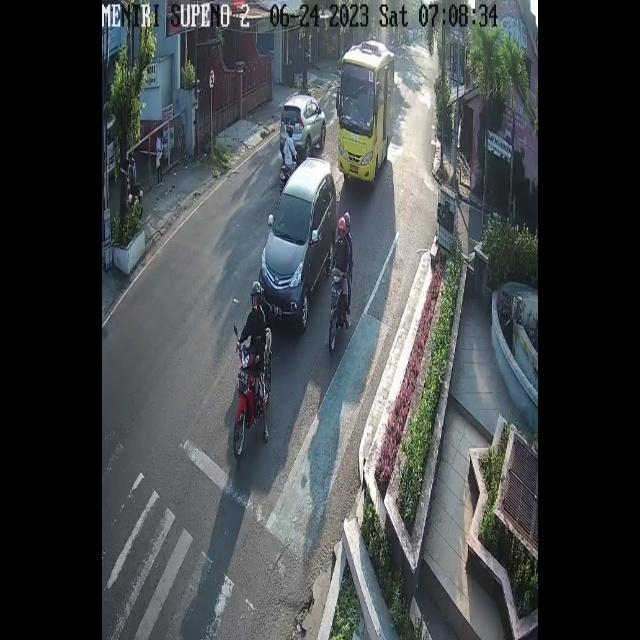bus: (230, 341, 268, 464), (326, 264, 351, 356), (278, 148, 297, 186)
car: (338, 40, 389, 183)
motorcycle: (257, 155, 338, 331), (279, 94, 326, 152)
